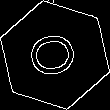O_E: (25, 28, 85, 82)
